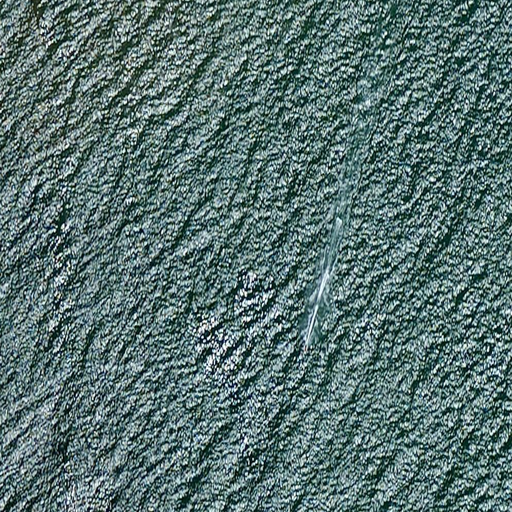ship: (304, 335, 312, 349)
